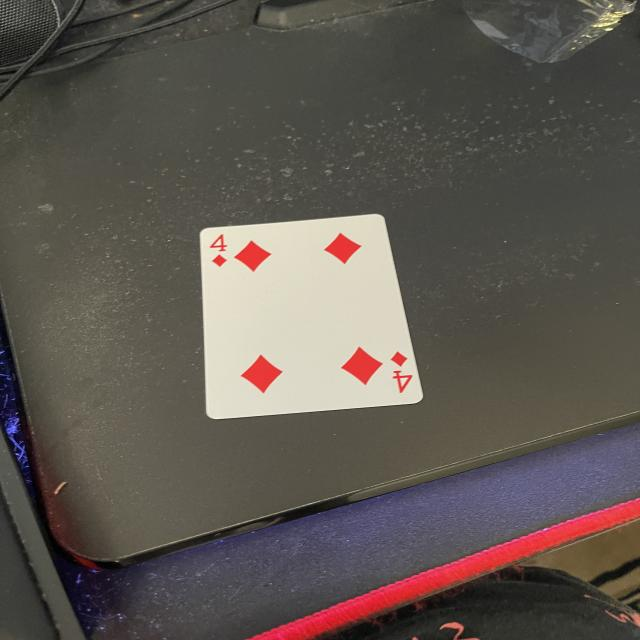4 of diamonds: (203, 216, 422, 414)
